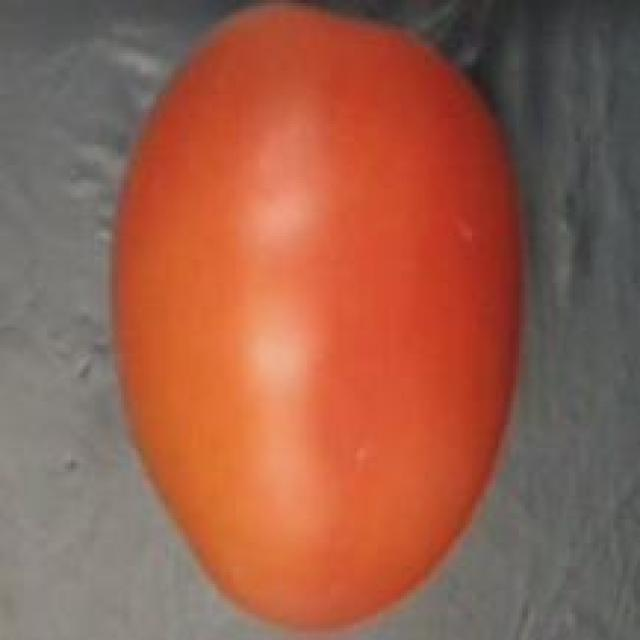ripe tomato: (103, 0, 537, 640)
